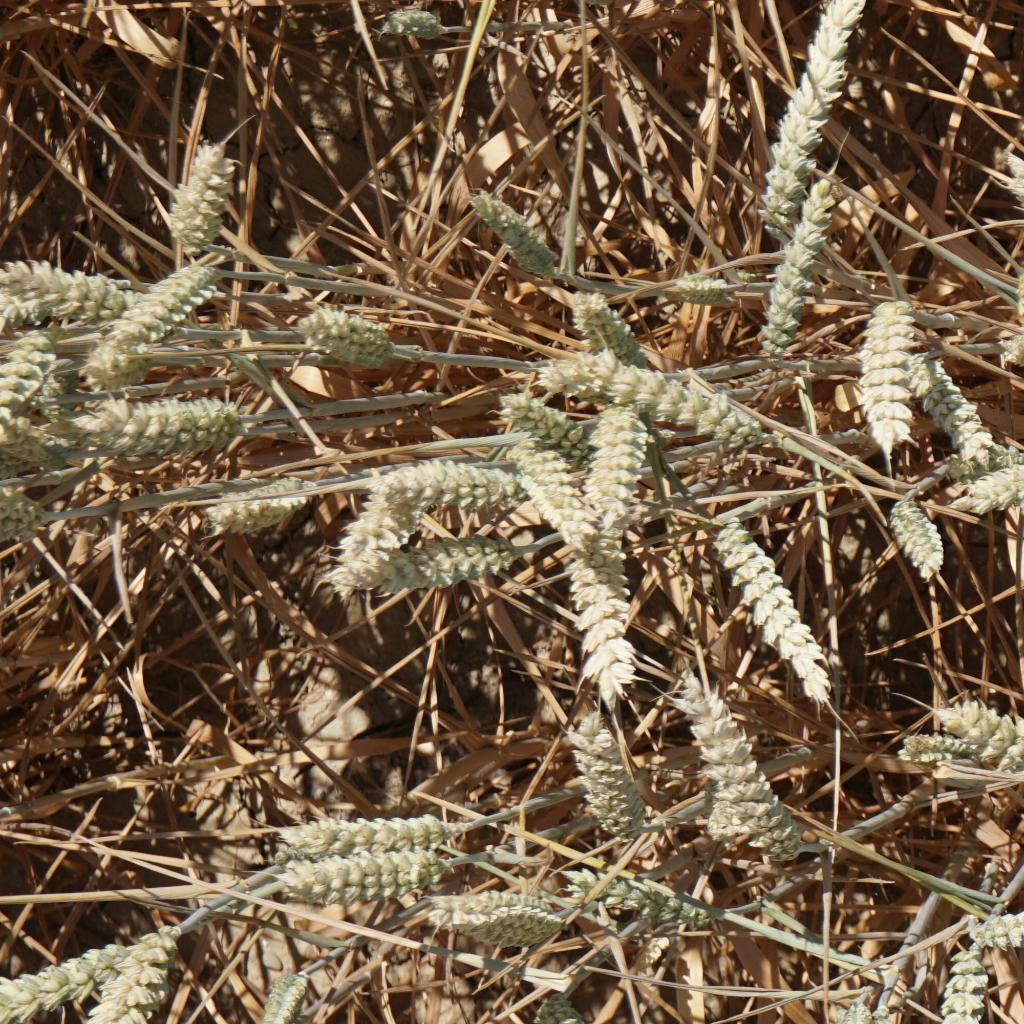0-0: (525, 346, 774, 451), (679, 667, 809, 850), (707, 516, 833, 698), (736, 0, 854, 193), (551, 691, 675, 833), (60, 381, 265, 466), (553, 537, 640, 691), (377, 537, 537, 616), (92, 260, 222, 356), (372, 446, 527, 523), (761, 185, 828, 352), (574, 864, 732, 933), (860, 291, 923, 458), (466, 163, 557, 275), (579, 395, 657, 523), (323, 492, 427, 588), (267, 791, 454, 844), (267, 846, 429, 903), (0, 923, 108, 1008), (939, 700, 1024, 805), (903, 354, 986, 458), (195, 460, 316, 531), (0, 258, 116, 332), (297, 285, 395, 370), (157, 137, 234, 244), (431, 888, 565, 949), (102, 935, 190, 1024), (874, 484, 949, 584), (927, 939, 1008, 1024), (0, 329, 57, 435), (523, 460, 592, 545), (577, 285, 657, 356), (377, 0, 466, 57), (0, 409, 77, 472), (256, 958, 327, 1024), (498, 384, 561, 454), (896, 714, 966, 774), (958, 439, 1024, 502), (665, 256, 736, 313), (539, 964, 604, 1024), (963, 888, 1024, 951), (0, 496, 67, 552), (998, 316, 1024, 379)
